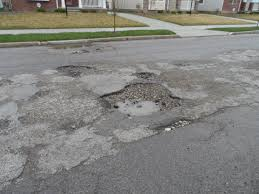pothole: (101, 79, 198, 128)
